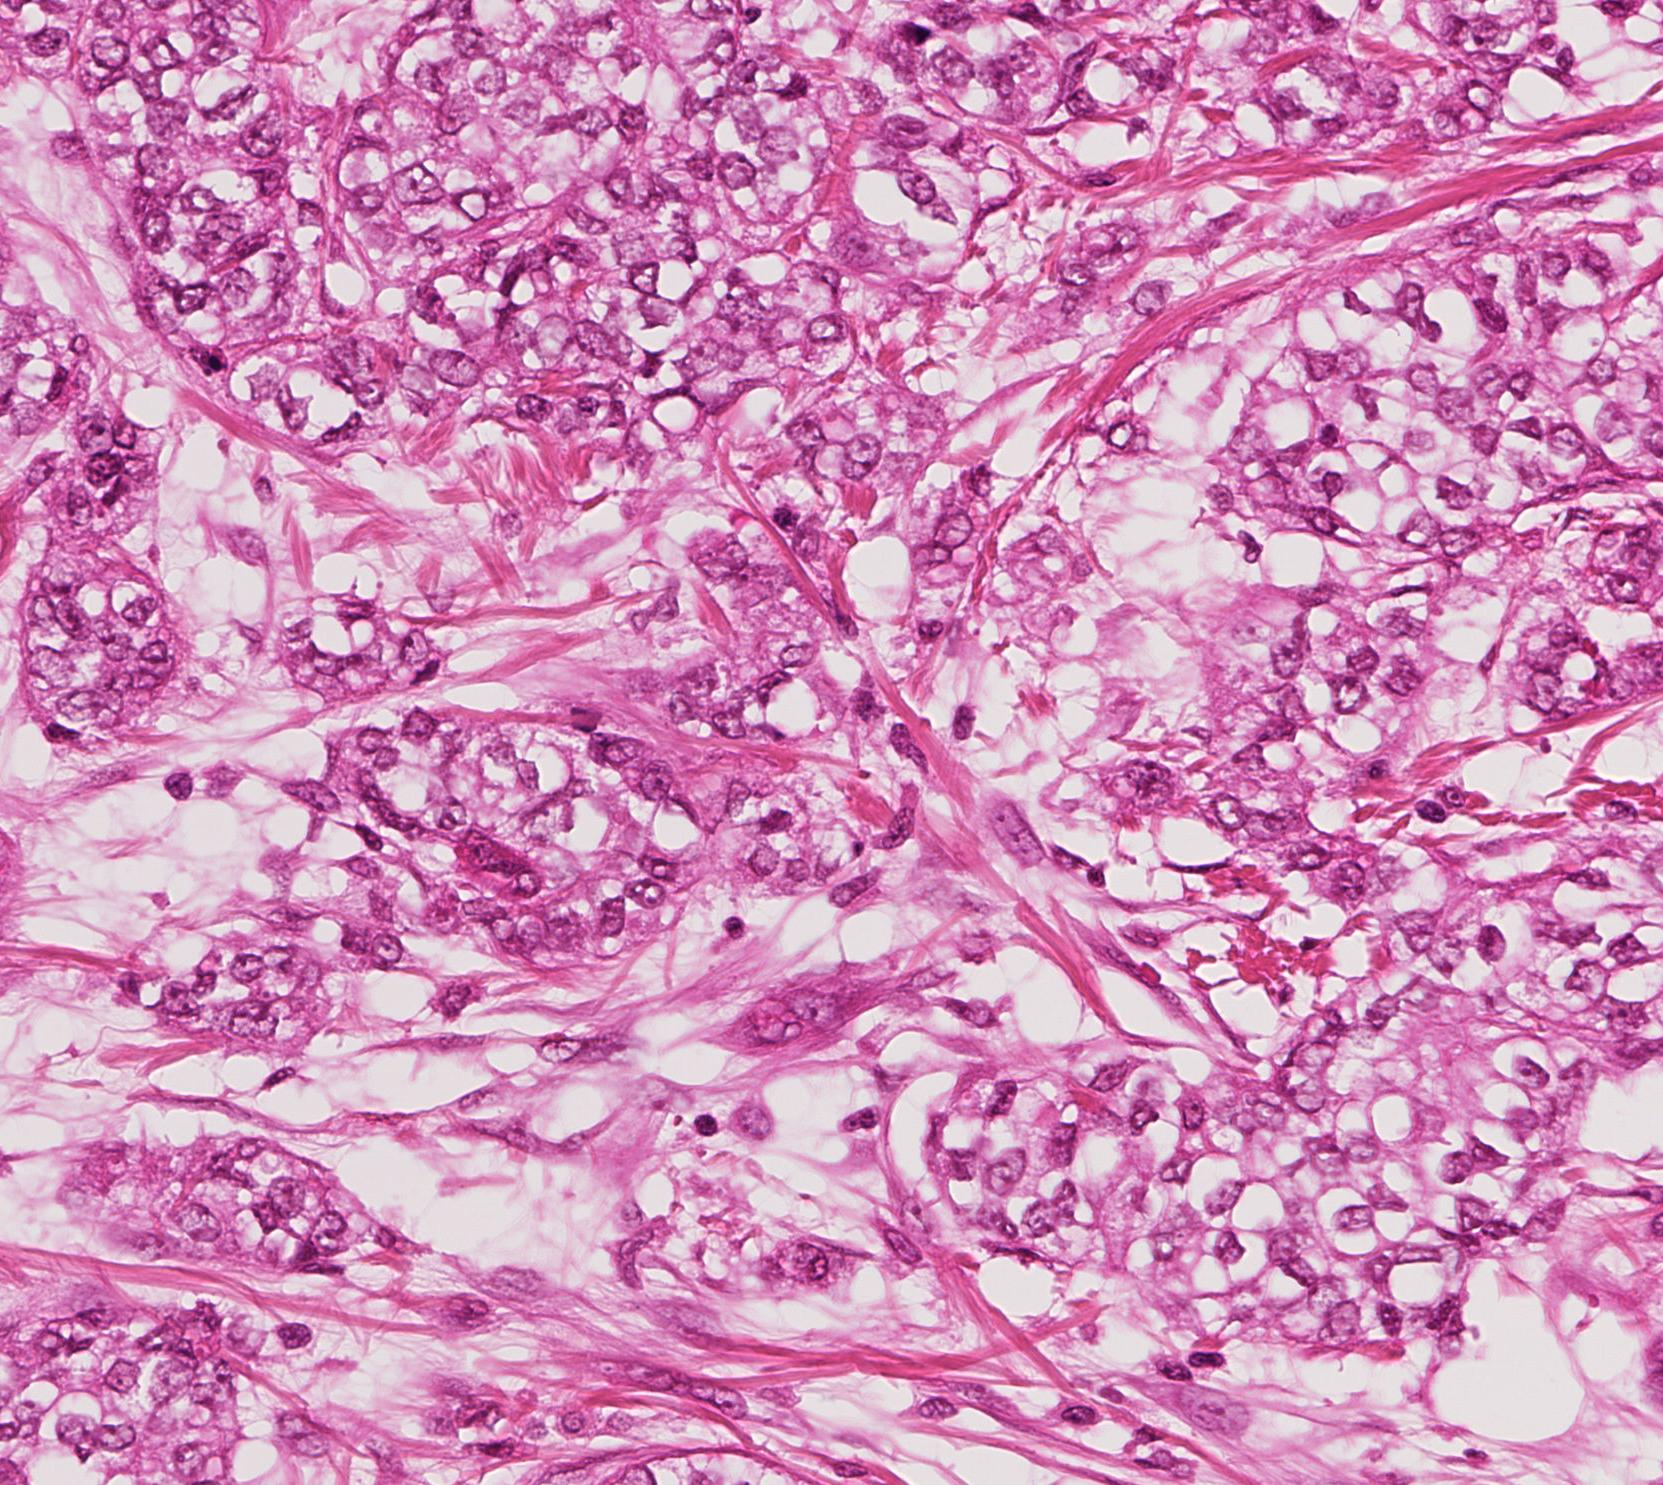mitosis: (753, 484, 811, 545)
